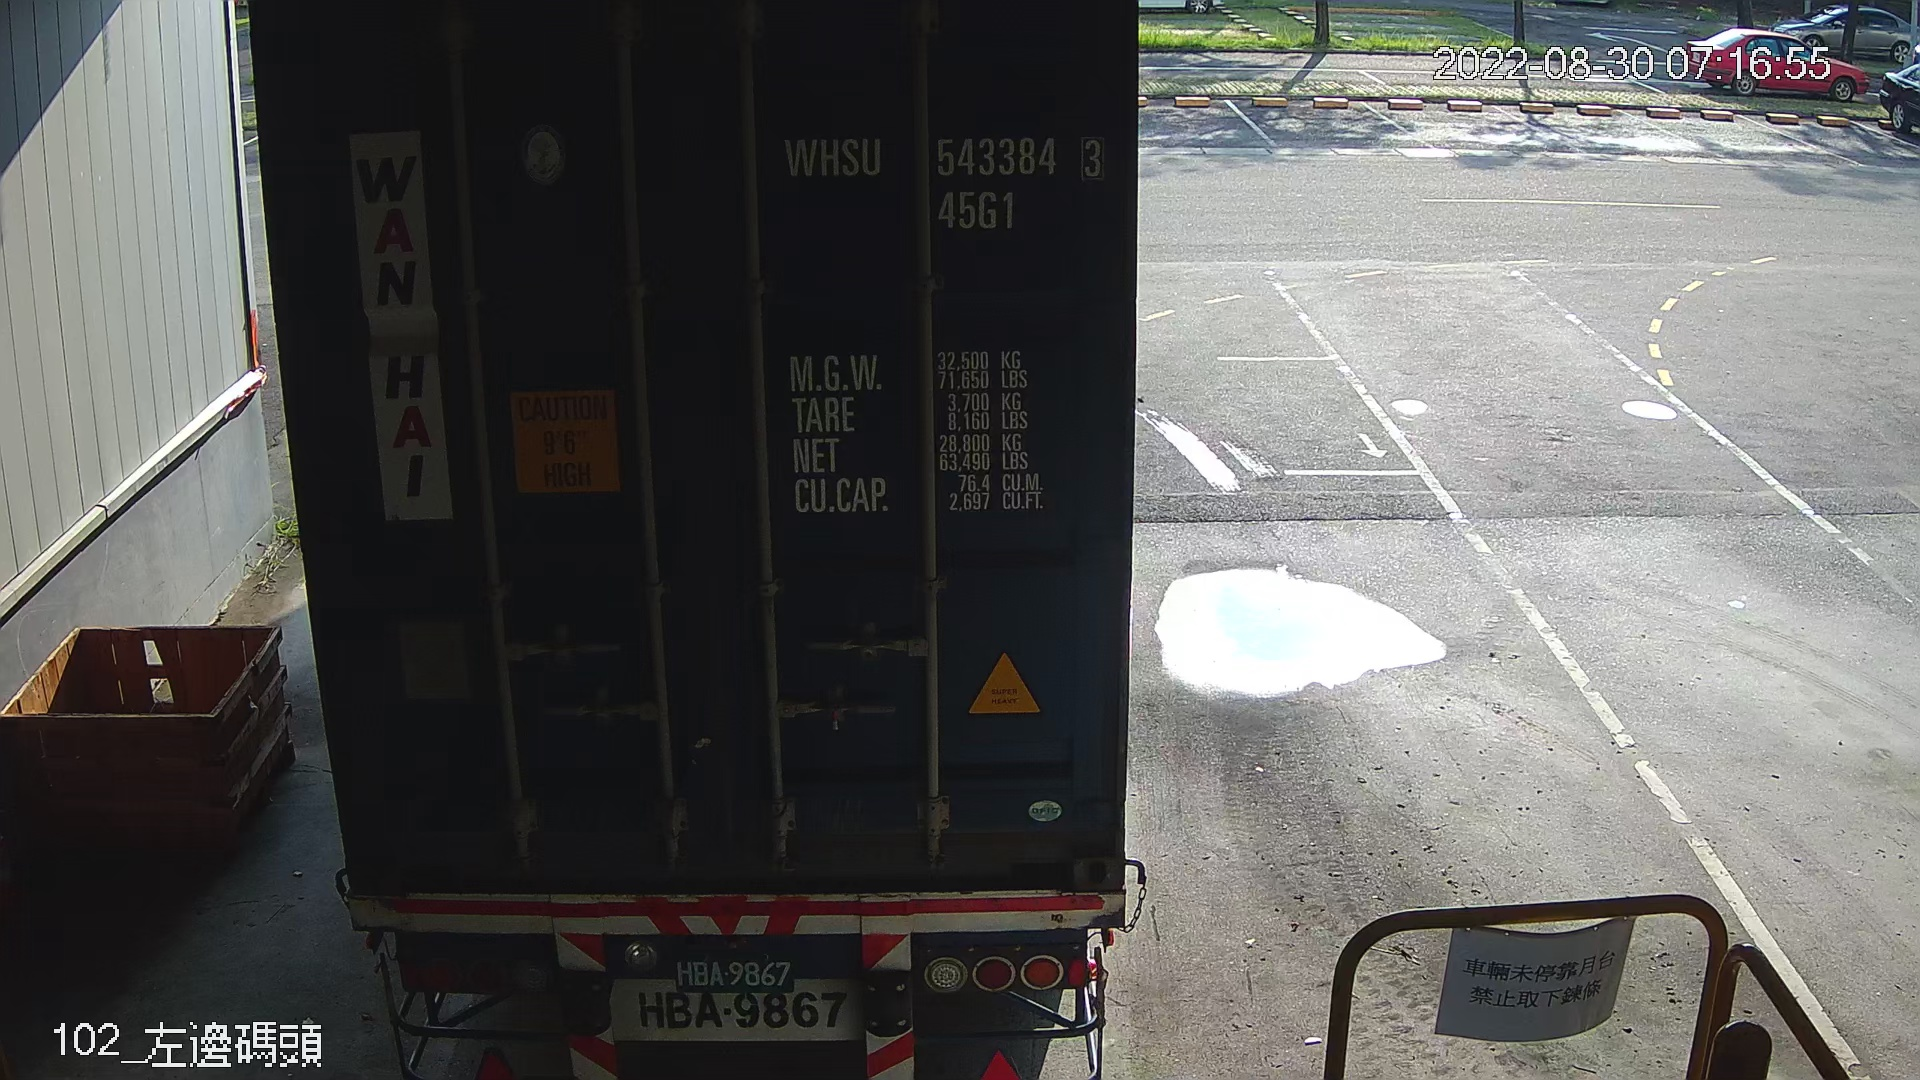container: (773, 120, 1113, 239)
